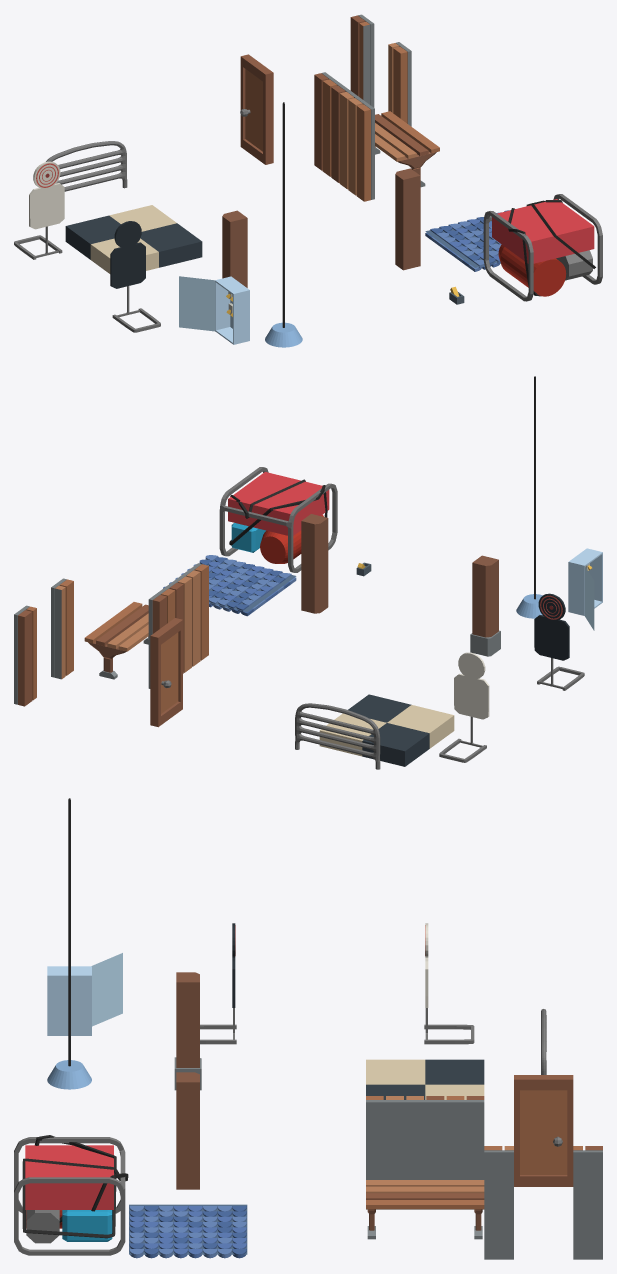
File: AssetJeuAvecClément.glb
3 views of the same model, one above another, from view 1: azimuth 30°, elevation 25°; view 2: azimuth 150°, elevation 25°; view 3: azimuth 270°, elevation 25° (orthographic). The views are drawn at different scales.
Parts seen in each view (by area): view 1: Cylinder, Cube.008, Cube.001, Cube.010, Cube.005, Cube.004, Cube.002, Cube.007, Circle.001, Plane.002, Plane.001, Plane.004 (+2 smaller); view 2: Cylinder, Cube.001, Cube.005, Cube.008, Circle.001, Cube.004, Cube.003, Cube.002, Plane.004, Cube.007, Cube.010, Plane.002 (+2 smaller); view 3: Cylinder, Cube.008, Cube.005, Cube.004, Circle.001, Cube.010, Cube.001, Cube.007, Cube.002, Cube.003, Plane.005, Plane.003.
Part boxes in pixels (box(x1,y1,x2,y2)): Cylinder: box(483, 194, 602, 301); Cube.008: box(314, 72, 374, 201); Cube.001: box(65, 205, 202, 273); Cube.010: box(179, 276, 249, 344); Cube.005: box(350, 14, 411, 126); Cube.004: box(240, 54, 273, 164); Cube.002: box(395, 168, 420, 270); Cube.007: box(375, 111, 439, 187); Circle.001: box(425, 210, 510, 271); Plane.002: box(29, 161, 64, 257); Plane.001: box(110, 221, 145, 317); Plane.004: box(46, 141, 127, 191); Cylinder: box(219, 467, 337, 572); Cube.001: box(319, 694, 454, 766); Cube.005: box(14, 578, 73, 706); Cube.008: box(148, 563, 208, 688); Circle.001: box(163, 555, 296, 616); Cube.004: box(150, 618, 182, 727); Cube.003: box(470, 555, 500, 656); Cube.002: box(301, 514, 328, 613); Plane.004: box(295, 703, 380, 769); Cube.007: box(84, 602, 148, 679); Cube.010: box(568, 548, 602, 630); Plane.002: box(454, 652, 489, 747); Cylinder: box(14, 1135, 128, 1255); Cube.008: box(366, 1096, 484, 1209); Cube.005: box(484, 1146, 602, 1259); Cube.004: box(514, 1075, 573, 1186); Circle.001: box(129, 1204, 247, 1258); Cube.010: box(47, 953, 122, 1035); Cube.001: box(366, 1059, 484, 1099); Cube.007: box(366, 1180, 484, 1239); Cube.002: box(176, 1072, 199, 1189); Cube.003: box(174, 972, 201, 1090); Plane.005: box(47, 798, 91, 1089); Plane.003: box(424, 1024, 474, 1044).
Size of the model in its own units: 9.44 by 5.68 by 9.94.
